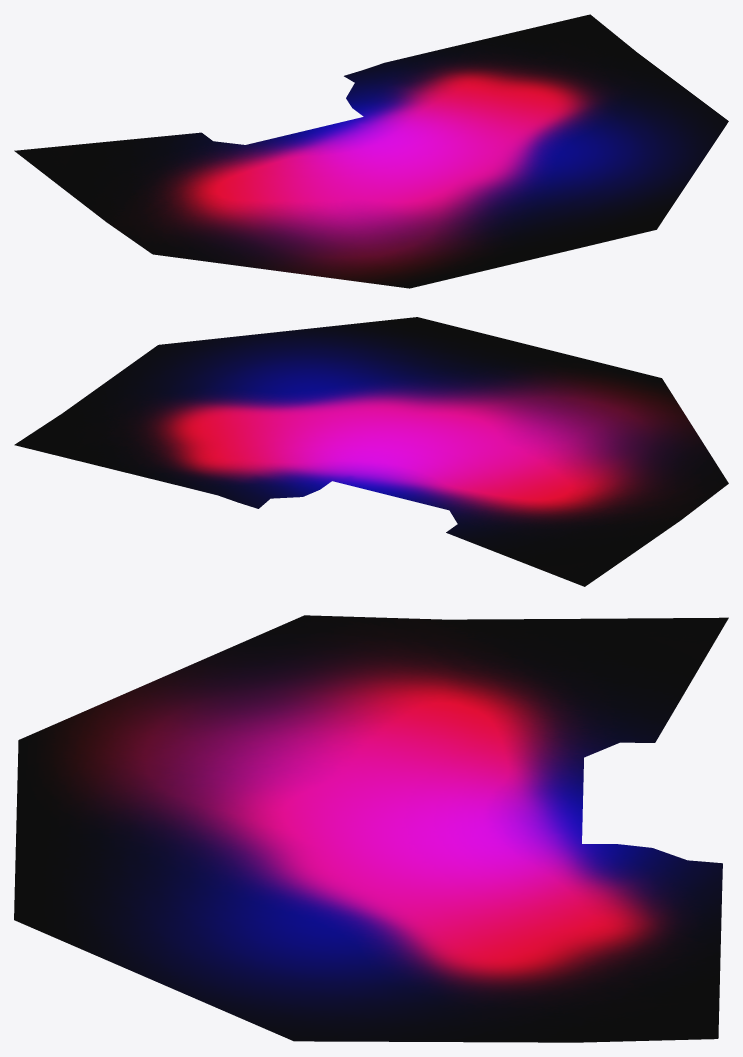
The model's file is Stage_East_CentralParkPond_Water.FBX.
3 views of the same model, one above another, from view 1: azimuth 30°, elevation 25°; view 2: azimuth 150°, elevation 25°; view 3: azimuth 270°, elevation 25° (orthographic). The views are drawn at different scales.
Visible parts, largest first — view 1: water_new; view 2: water_new; view 3: water_new.
Boxes of the visible parts, x1,y1,x2,y2 form: water_new: (14,14,728,288); water_new: (14,317,728,586); water_new: (14,615,728,1042).
Bounding box in the file's own units: 24107 × 160 × 17262.
